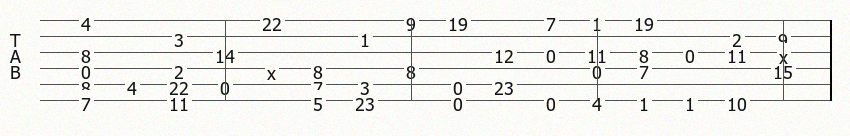0: (81, 60, 95, 77), (220, 76, 234, 93), (453, 92, 467, 109), (453, 76, 467, 93), (546, 44, 560, 61), (546, 92, 560, 109), (592, 60, 606, 77), (685, 44, 699, 61)
1: (360, 28, 374, 45), (592, 12, 606, 29), (639, 92, 653, 109), (685, 92, 699, 109)
10: (727, 92, 751, 109)
11: (169, 92, 193, 109), (587, 44, 611, 61), (727, 44, 751, 61)
12: (494, 44, 518, 61)
14: (215, 44, 239, 61)
15: (773, 60, 797, 77)
19: (448, 12, 472, 29), (634, 12, 658, 29)
2: (174, 60, 188, 77), (732, 28, 746, 45)
22: (169, 76, 193, 93), (262, 12, 286, 29)
23: (355, 92, 379, 109), (494, 76, 518, 93)
3: (174, 28, 188, 45), (360, 76, 374, 93)
4: (81, 12, 95, 29), (127, 76, 141, 93), (592, 92, 606, 109)
5: (313, 92, 327, 109)
7: (81, 92, 95, 109), (313, 76, 327, 93), (546, 12, 560, 29), (639, 60, 653, 77)
8: (81, 76, 95, 93), (81, 44, 95, 61), (313, 60, 327, 77), (406, 60, 420, 77), (639, 44, 653, 61)
9: (406, 12, 420, 29), (778, 28, 792, 45)
x: (267, 61, 280, 75), (779, 45, 792, 59)
